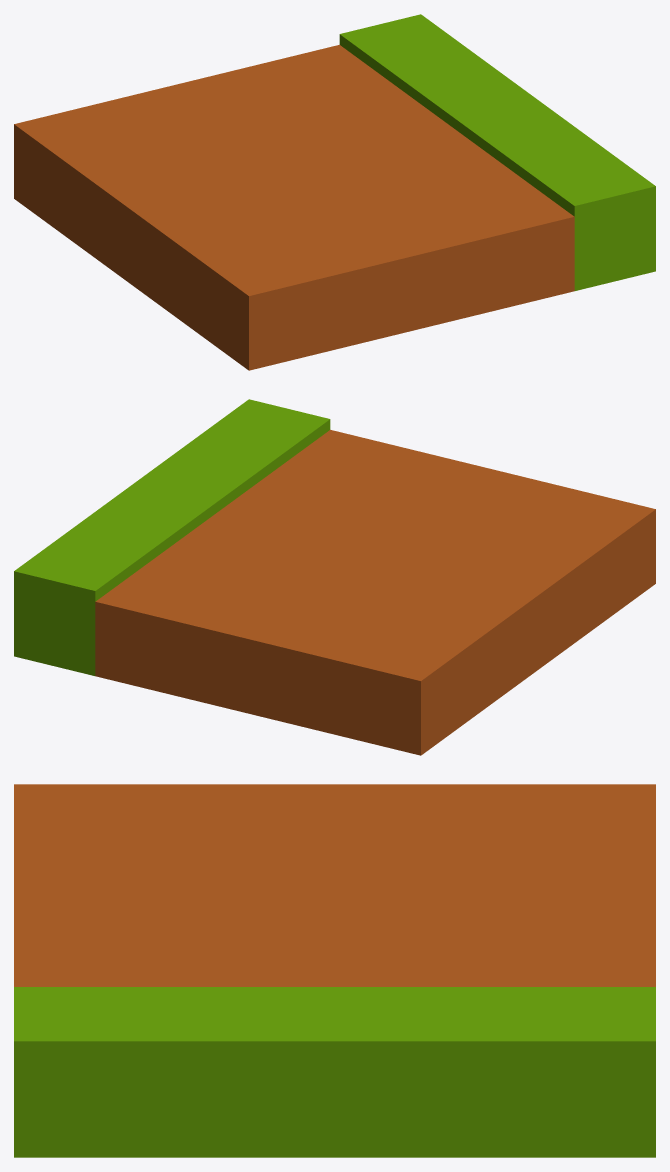
File: TileGround_18.fbx
3 views of the same model, one above another, from view 1: azimuth 30°, elevation 25°; view 2: azimuth 150°, elevation 25°; view 3: azimuth 270°, elevation 25° (orthographic). The views are drawn at different scales.
Visible parts, largest first — view 1: TileGround_18; view 2: TileGround_18; view 3: TileGround_18.
Boxes of the visible parts, <box> form: TileGround_18: <box>14,14,655,370</box>; TileGround_18: <box>14,399,655,755</box>; TileGround_18: <box>14,784,655,1157</box>.
Bounding box in the file's own units: 500 × 100 × 500.
1 material, 1 textured.
